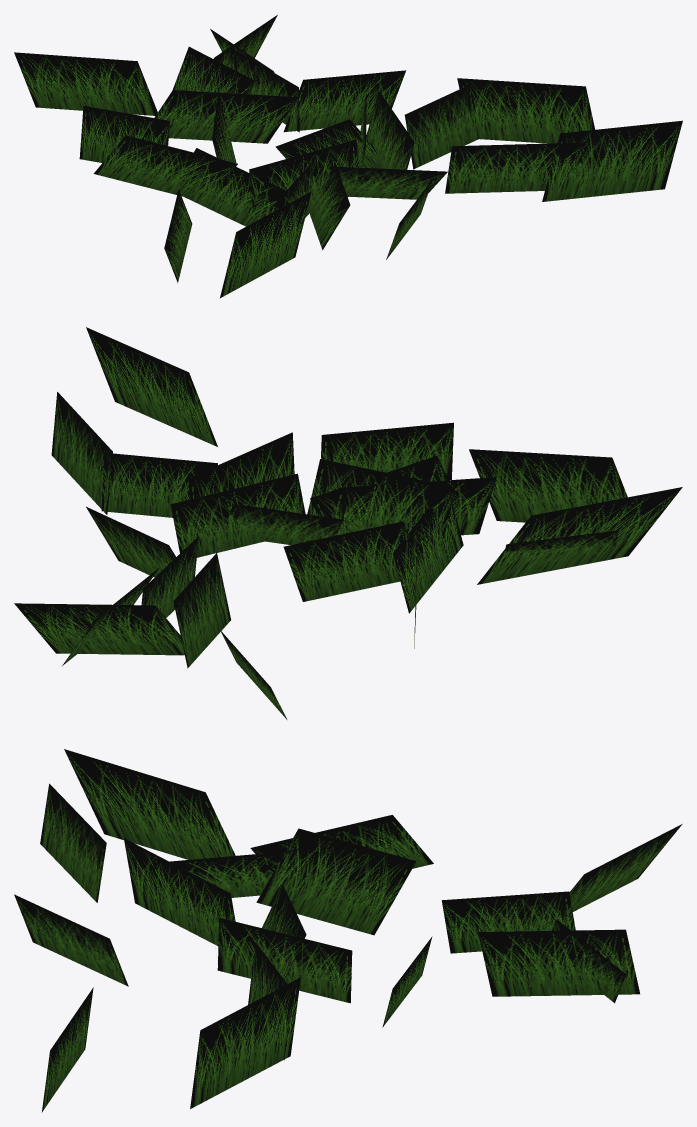
File: grass_lawn.glb
3 views of the same model, one above another, from view 1: azimuth 30°, elevation 25°; view 2: azimuth 150°, elevation 25°; view 3: azimuth 270°, elevation 25° (orthographic). The views are drawn at different scales.
Parts seen in each view (by area): view 1: grass_lawn; view 2: grass_lawn; view 3: grass_lawn.
Boxes of the visible parts, x1,y1,x2,y2 form: grass_lawn: (14, 15, 682, 298); grass_lawn: (14, 327, 682, 719); grass_lawn: (14, 749, 682, 1112).
Size of the model in its own units: 1.61 by 0.1843 by 1.47.
Materials: 1 (1 with a texture image).
